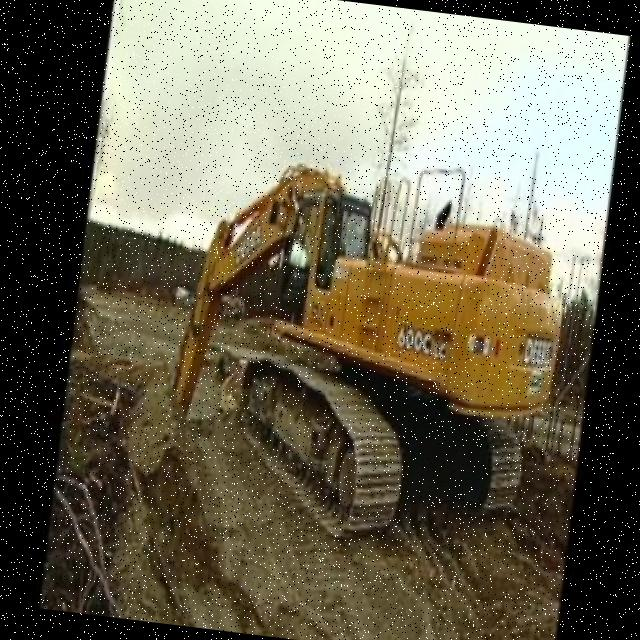Excavator: (138, 115, 584, 580)
